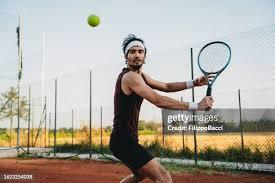ball_tennis: (86, 14, 101, 27)
